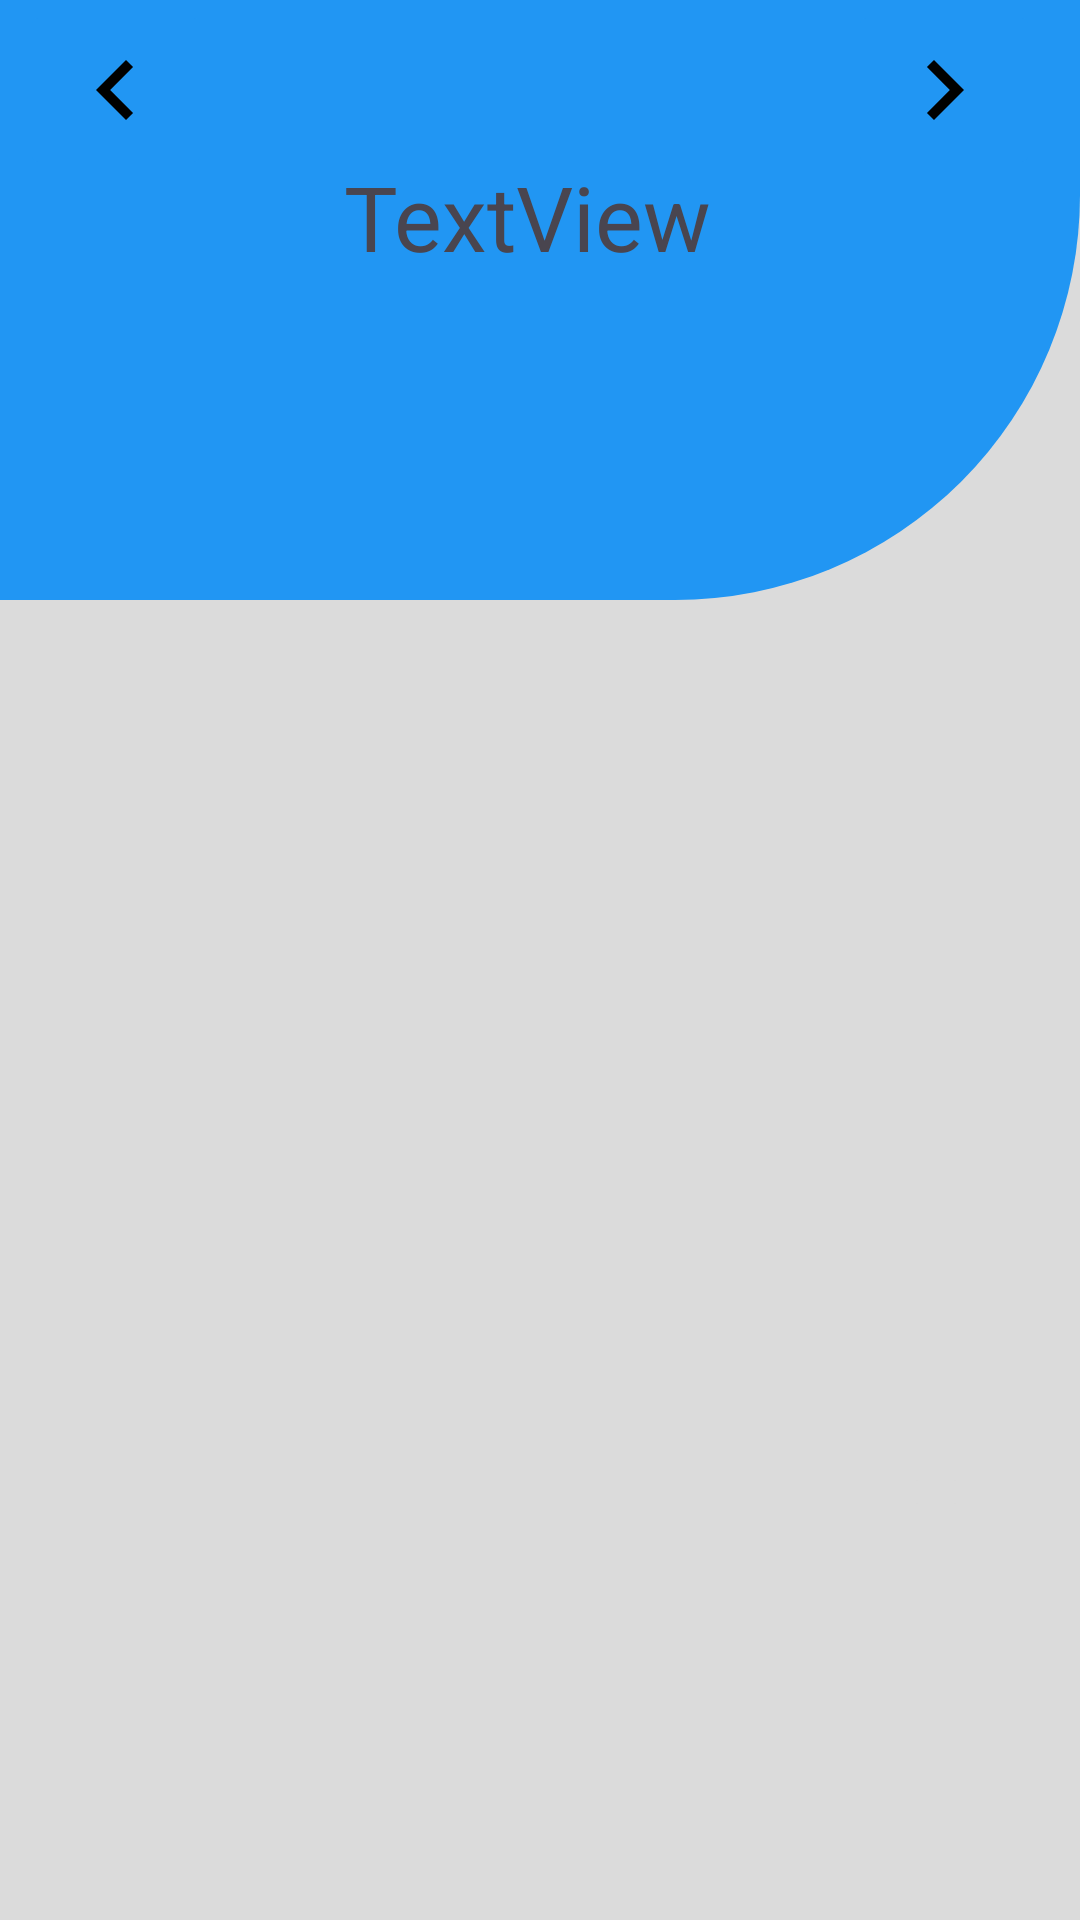

Where to tap for icons on this 1080x1920 app screen, as (x,y):
next: (945,90)
previous: (114,90)
